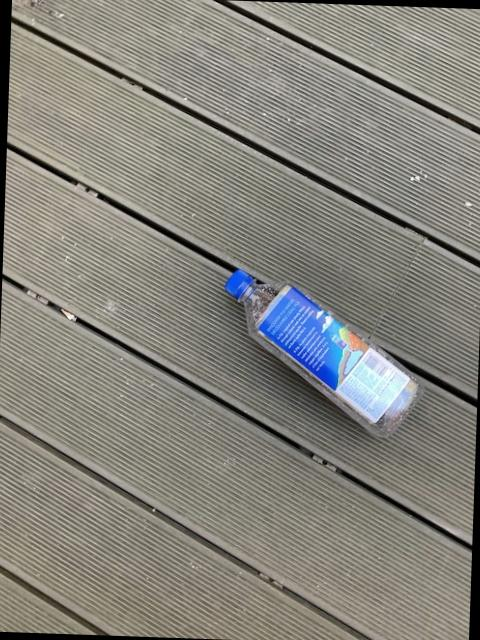plastic: (226, 271, 423, 437)
